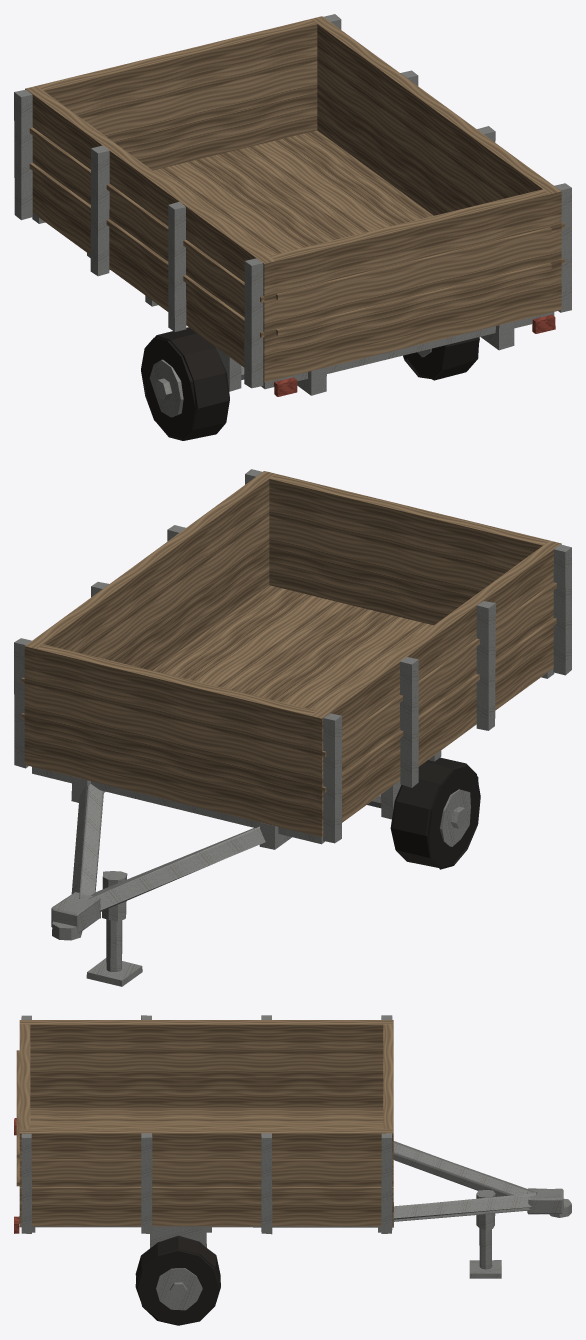
Rendered from small_trailer.glb.
The picture shows the model from 3 angles, top to bottom: view 1: azimuth 30°, elevation 25°; view 2: azimuth 150°, elevation 25°; view 3: azimuth 270°, elevation 25°; orthographic projection. The views are drawn at different scales.
Parts seen in each view (by area): view 1: SmallTrailer, Tailgate, Wheel_L1, Wheel_R1; view 2: SmallTrailer, Tailgate, Wheel_L1, Coupler; view 3: SmallTrailer, Wheel_R1, Tailgate, Coupler.
Boxes of the visible parts, bbox=[...] form: SmallTrailer: bbox=[14, 14, 571, 396]; Tailgate: bbox=[270, 189, 549, 367]; Wheel_L1: bbox=[141, 327, 229, 440]; Wheel_R1: bbox=[403, 337, 479, 380]; SmallTrailer: bbox=[14, 469, 571, 986]; Tailgate: bbox=[269, 474, 549, 625]; Wheel_L1: bbox=[390, 757, 480, 869]; Coupler: bbox=[51, 892, 100, 940]; SmallTrailer: bbox=[14, 1015, 537, 1278]; Wheel_R1: bbox=[135, 1235, 220, 1325]; Tailgate: bbox=[19, 1024, 30, 1128]; Coupler: bbox=[527, 1188, 571, 1217].
Bounding box in the file's own units: 2.3 × 1.71 × 4.43.
Materials: 4 (3 with a texture image).
